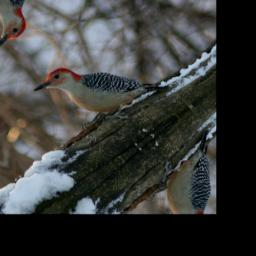Woodpecker: (30, 25, 169, 151)
